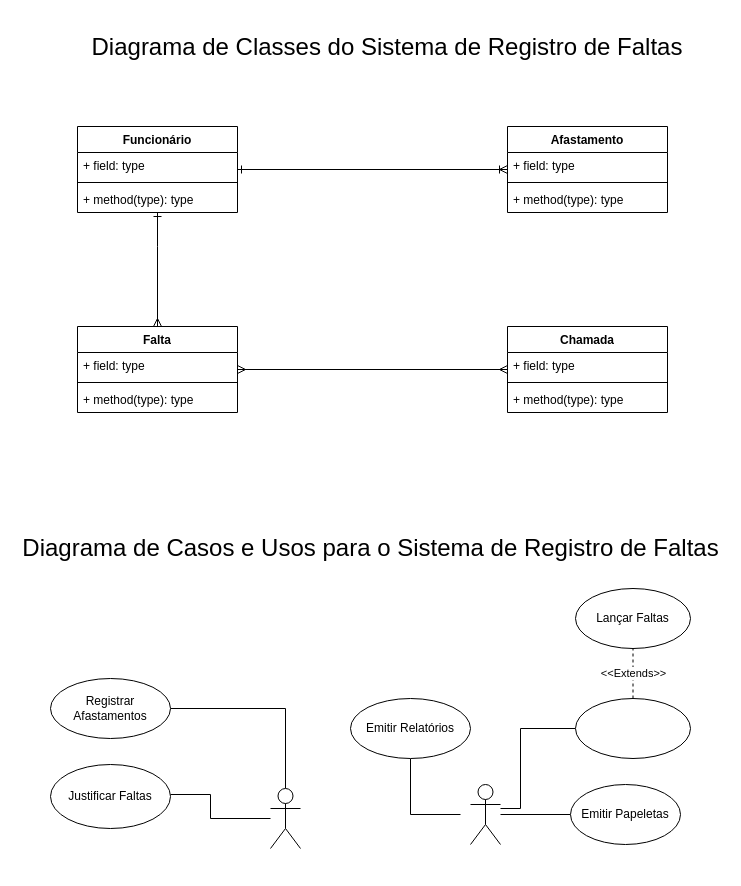
This 741x886 diagram has some shape labels left out. Here are the shapes that lost their labels. From the top down, the centre of each, then its label:
At point (632, 728): "Cadastrar Chamada".
At point (285, 818): "Funcionario".
At point (485, 814): "RH".
